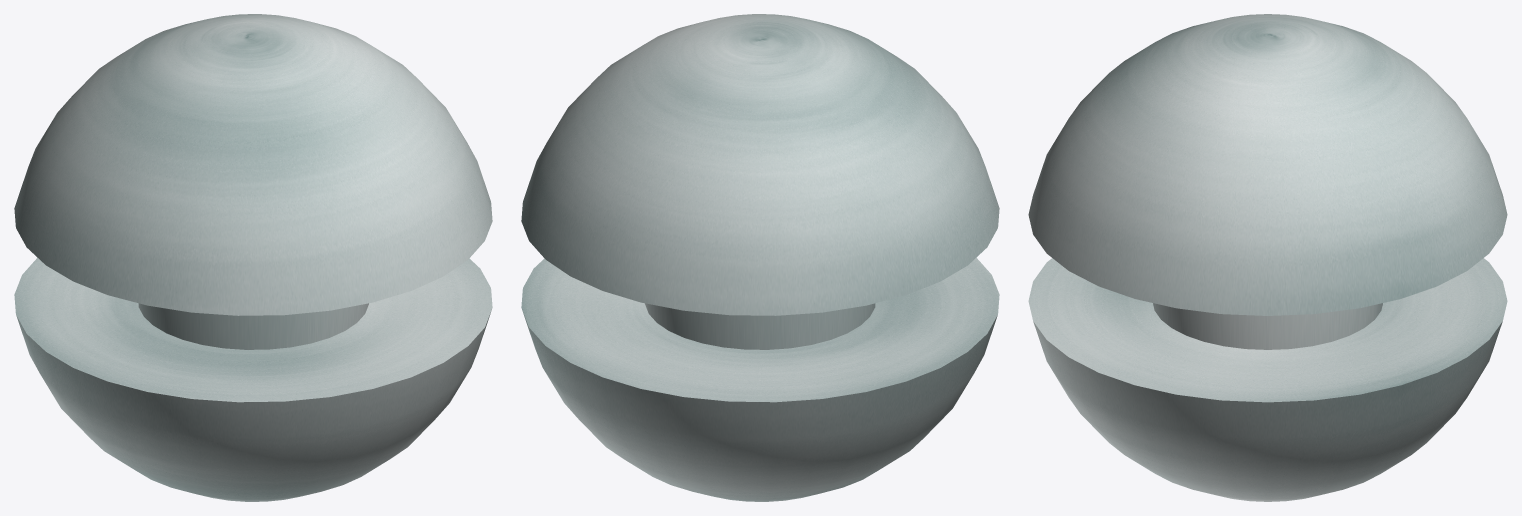
File: ball (1).FBX
The picture shows the model from 3 angles, left to right: view 1: azimuth 30°, elevation 25°; view 2: azimuth 150°, elevation 25°; view 3: azimuth 270°, elevation 25°; orthographic projection.
Parts seen in each view (by area): view 1: Orb; view 2: Orb; view 3: Orb.
Boxes of the visible parts, x1=… form: Orb: x1=14, y1=14, x2=492, y2=501; Orb: x1=521, y1=14, x2=999, y2=501; Orb: x1=1028, y1=14, x2=1507, y2=501.
Size of the model in its own units: 93.74 by 95.58 by 93.74.
1 material, 1 textured.
